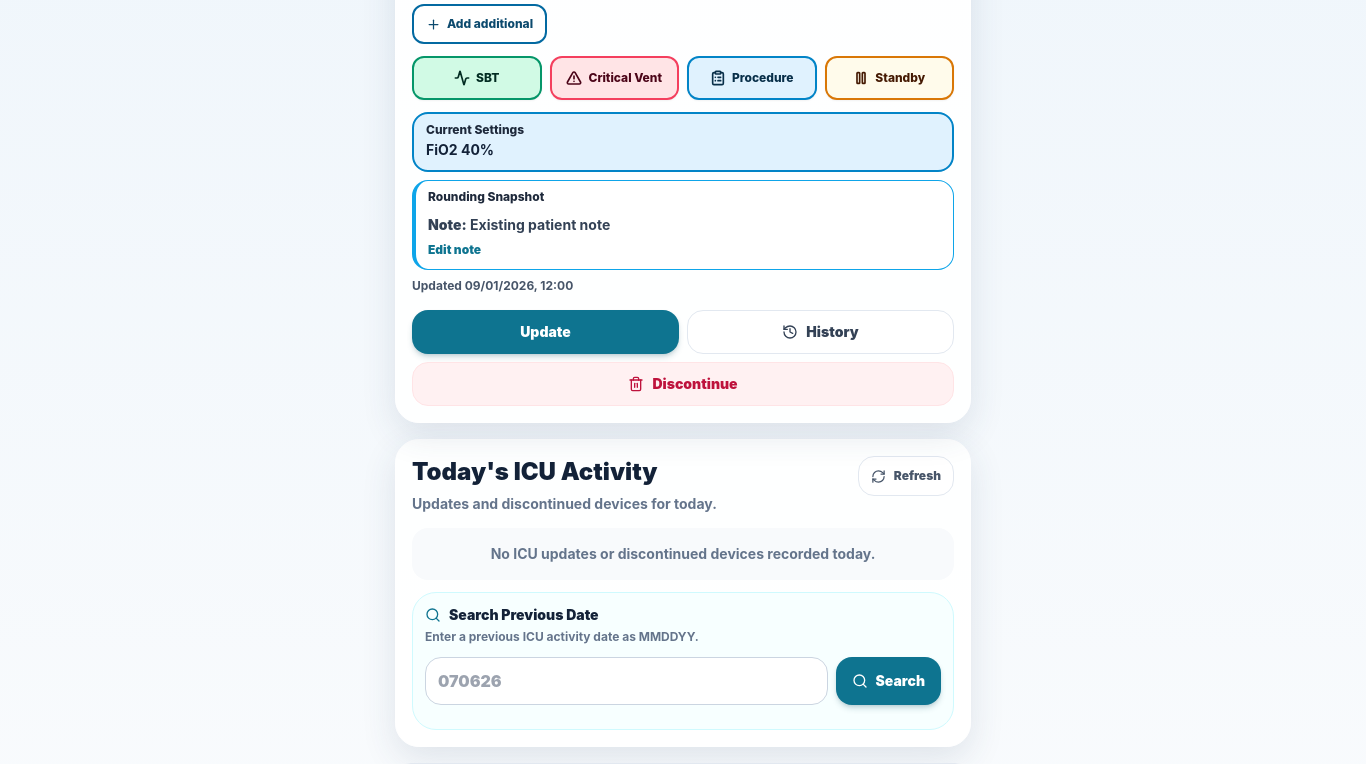
Test case: ICU patient notes › saves Other/Unknown and its optional comment from the full board
(page scrolled)
Click the button "Discontinue" at (683, 384), box [412, 362, 954, 406]
(page scrolled)
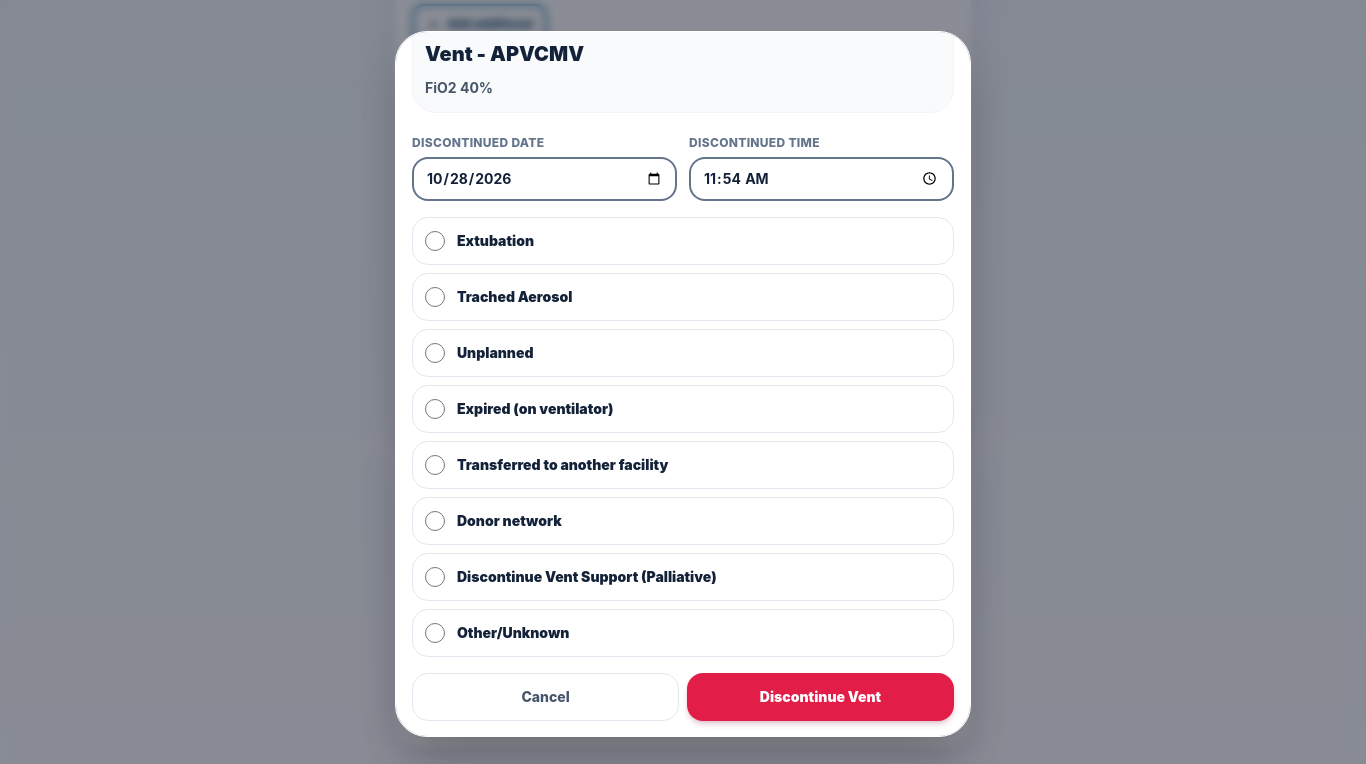
Check: the field labelled "Outcome comment (optional)" is not shown
Click the radio button labelled "Other/Unknown" at (435, 633), box [425, 623, 445, 643]
(page scrolled)
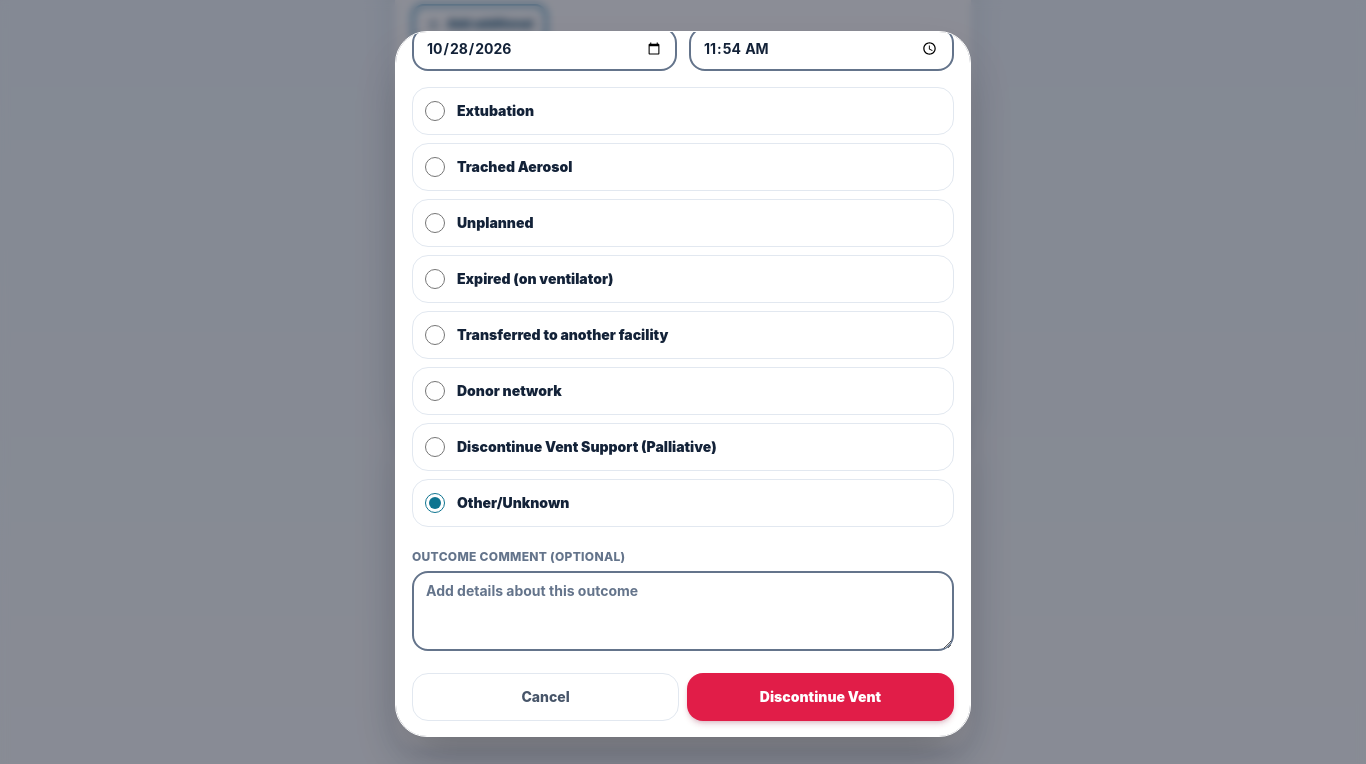
Type "  Outcome pending clarification  " into the text box labelled "Outcome comment (optional)" at (683, 611), box [412, 571, 954, 651]
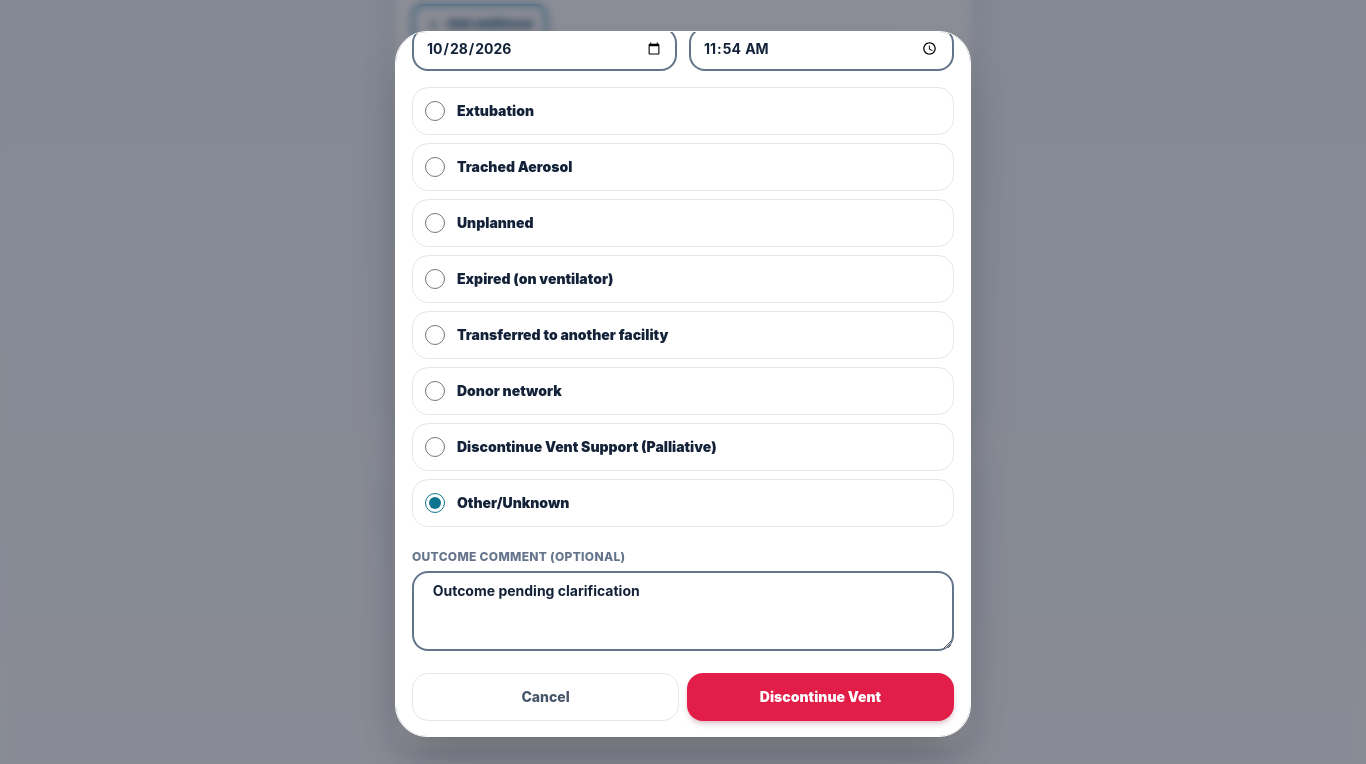
Click the button "Discontinue Vent" at (820, 697), box [687, 673, 954, 721]
(page scrolled)
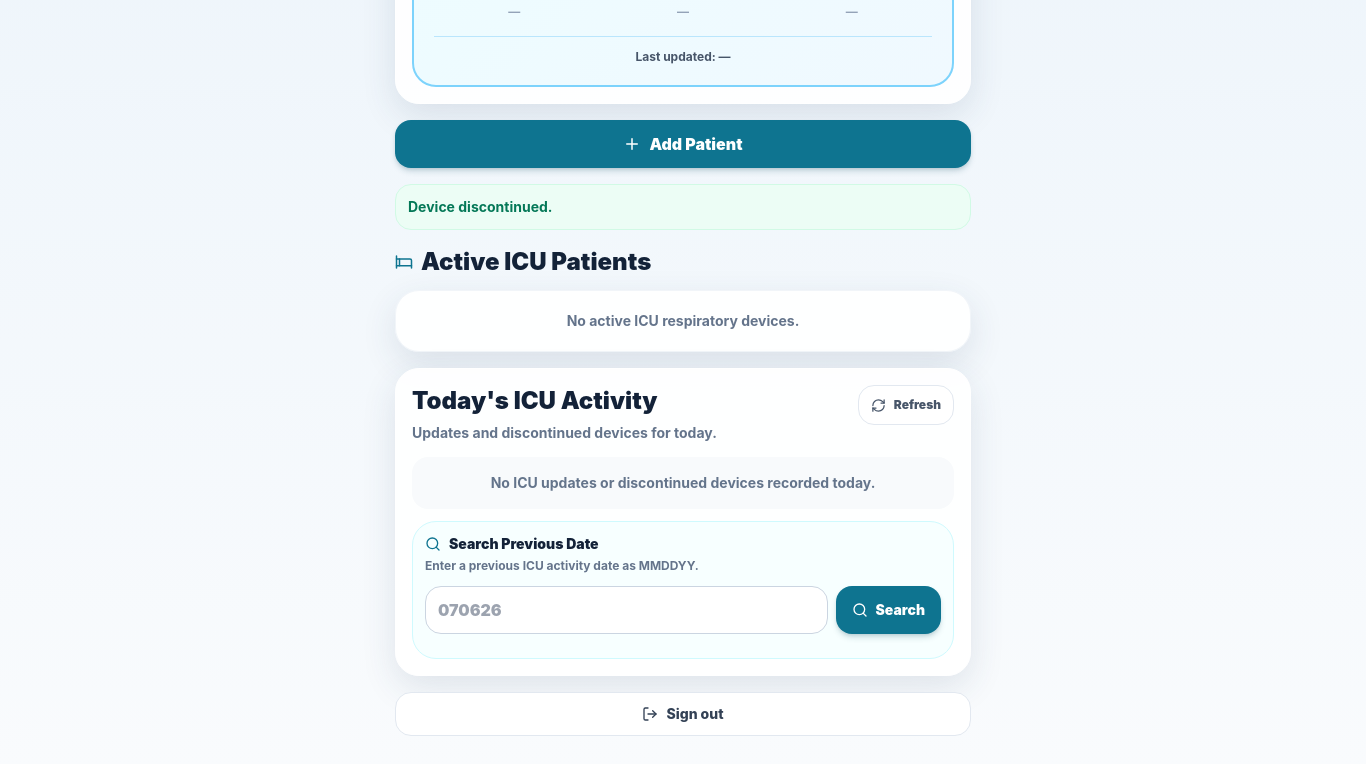
Check: the text "Device discontinued." is shown, box [395, 184, 971, 230]
